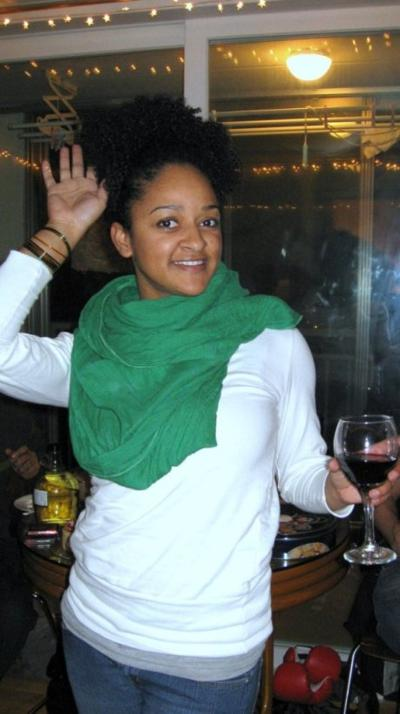person: (1, 102, 400, 714)
